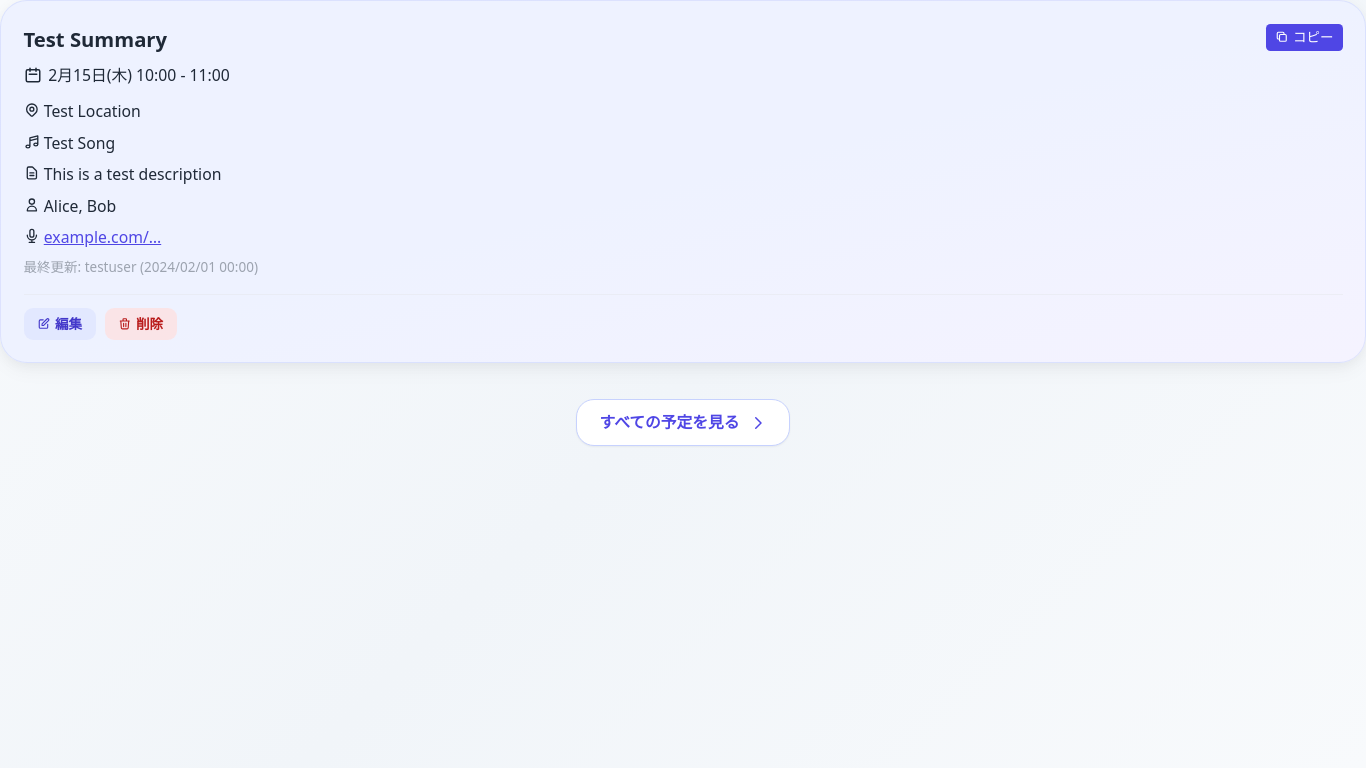
Test: ScheduleDetailPage › EDITOR user › should open the edit modal prefilled with the schedule
Expected: the heading "Test Summary" is shown, [24,24,167,55]
Click the button "編集": point(60, 324) [24,308,96,340]
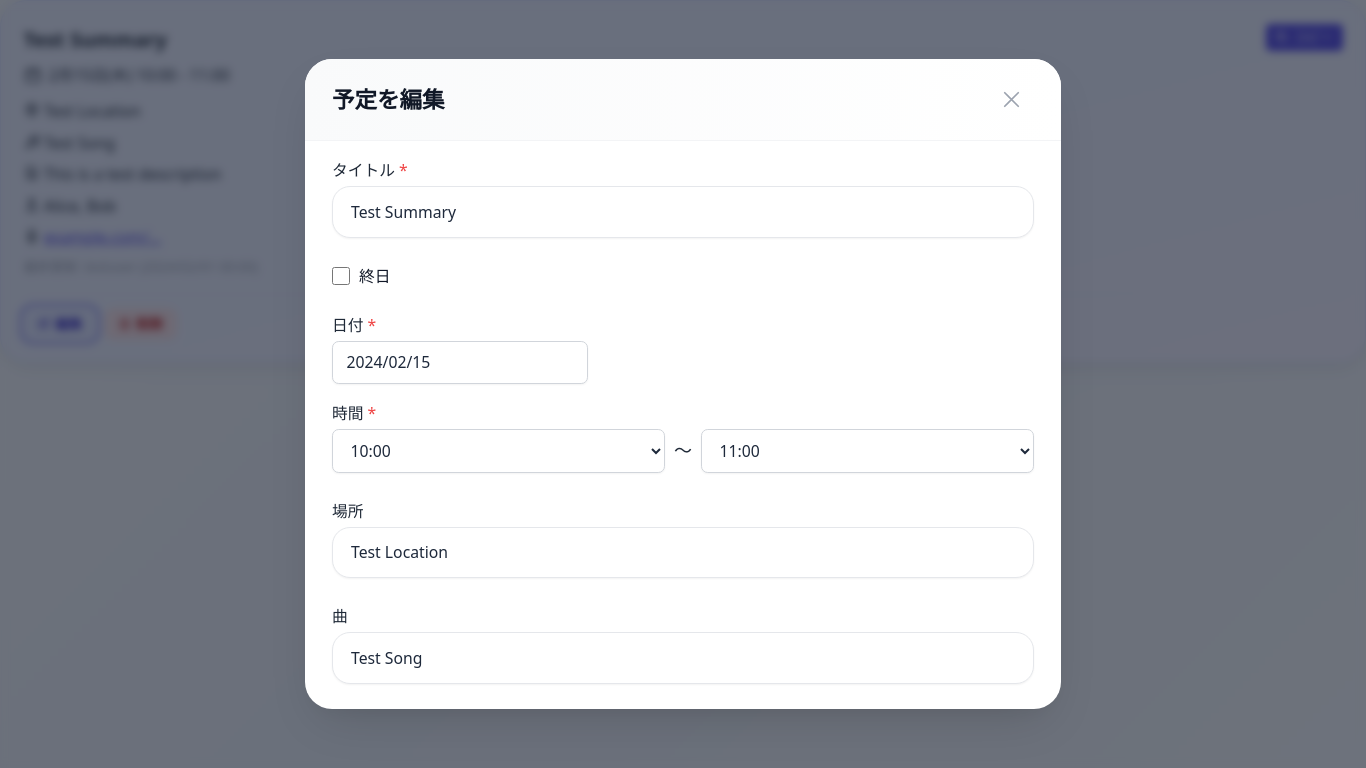
Expected: the heading "予定を編集" is shown, [332,84,444,115]
Expected: the field showing "Test Summary" is shown, [332,186,1034,238]
